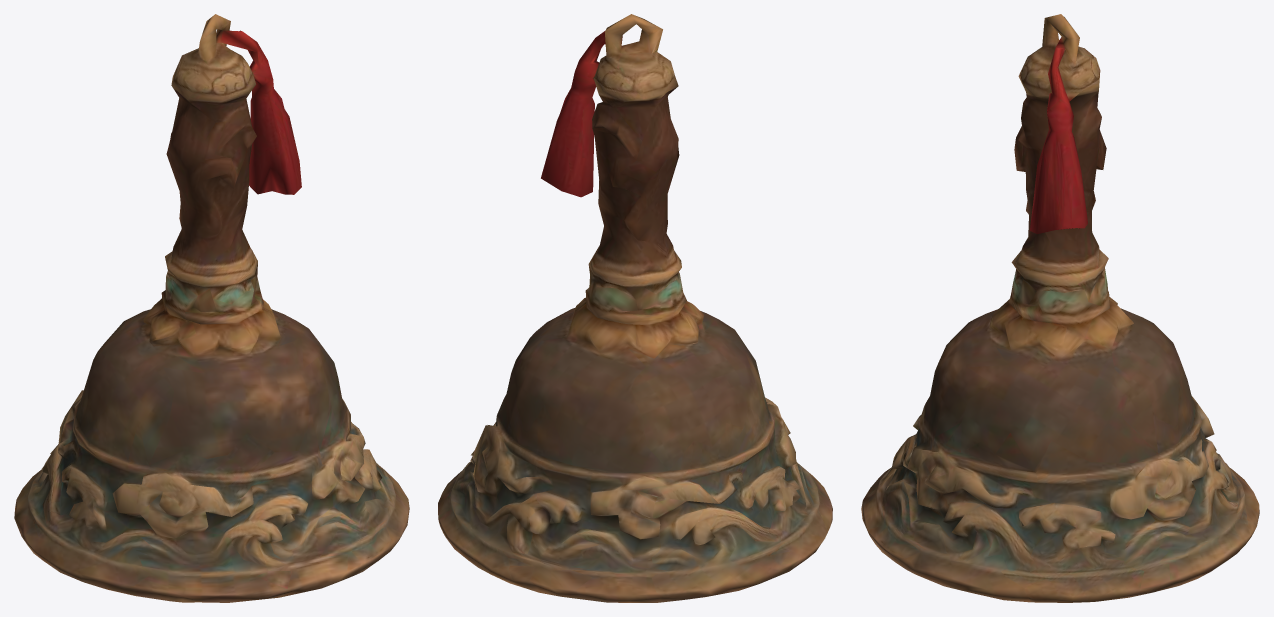
File: prop_tran_hon_linh.f44b5c98e9.glb
3 renders of one model, left to right at view 1: azimuth 30°, elevation 25°; view 2: azimuth 150°, elevation 25°; view 3: azimuth 270°, elevation 25°, orthographic.
Visible parts, largest first — view 1: prop_tran_hon_linh; view 2: prop_tran_hon_linh; view 3: prop_tran_hon_linh.
Boxes of the visible parts, left/top/right/bottom form: prop_tran_hon_linh: left=14, top=14, right=409, bottom=602; prop_tran_hon_linh: left=438, top=14, right=832, bottom=602; prop_tran_hon_linh: left=861, top=14, right=1259, bottom=602.
Size of what is drawn, in the model's own units: 0.1559 by 0.22 by 0.1558.
Materials: 1 (1 with a texture image).
